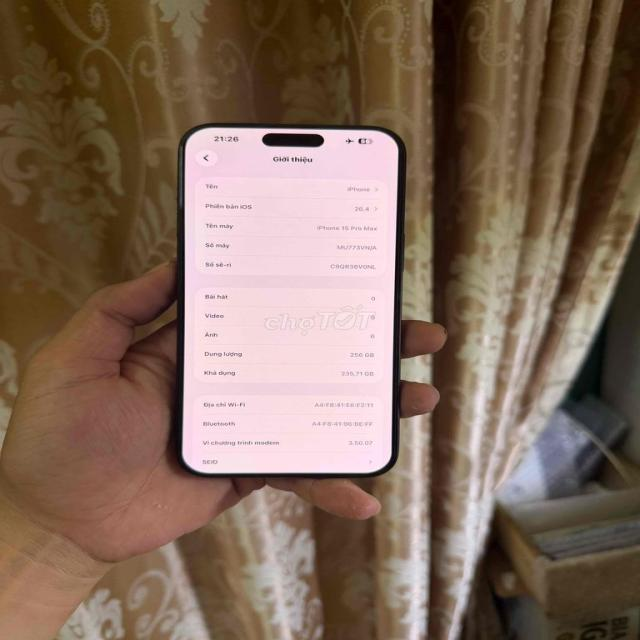gen_15: (165, 116, 404, 495)
